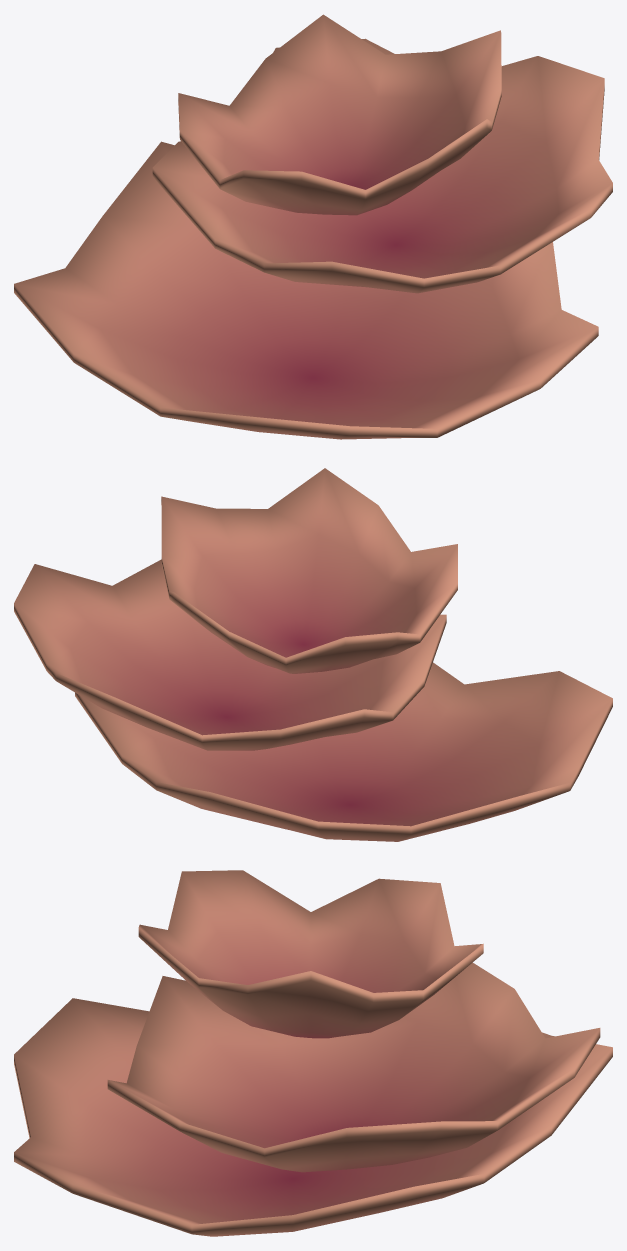
File: coral-rosette.glb
The picture shows the model from 3 angles, top to bottom: view 1: azimuth 30°, elevation 25°; view 2: azimuth 150°, elevation 25°; view 3: azimuth 270°, elevation 25°; orthographic projection. The views are drawn at different scales.
Visible parts, largest first — view 1: coral-rosette; view 2: coral-rosette; view 3: coral-rosette.
Boxes of the visible parts, <box> form: coral-rosette: <box>14,14,612,439</box>; coral-rosette: <box>14,468,612,841</box>; coral-rosette: <box>14,870,612,1236</box>.
Bounding box in the file's own units: 2.27 × 1.17 × 2.
